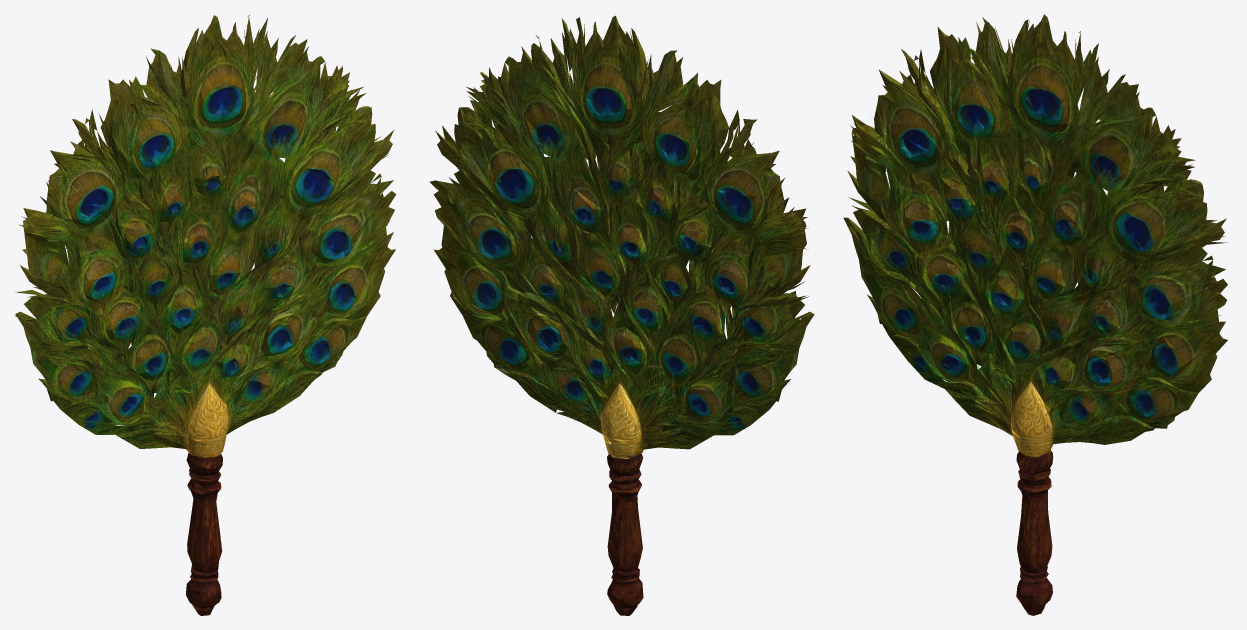
File: w3fan.glb
3 views of the same model, side by side, from view 1: azimuth 30°, elevation 25°; view 2: azimuth 150°, elevation 25°; view 3: azimuth 330°, elevation 25° (orthographic).
Parts seen in each view (by area): view 1: output_unwrapped; view 2: output_unwrapped; view 3: output_unwrapped.
Part boxes in pixels (box(x1,y1,x2,y2)): output_unwrapped: box(15, 15, 396, 615); output_unwrapped: box(429, 15, 814, 615); output_unwrapped: box(843, 14, 1227, 615).
Bounding box in the file's own units: 0.5076 × 0.75 × 0.0503.
Materials: 1 (1 with a texture image).
